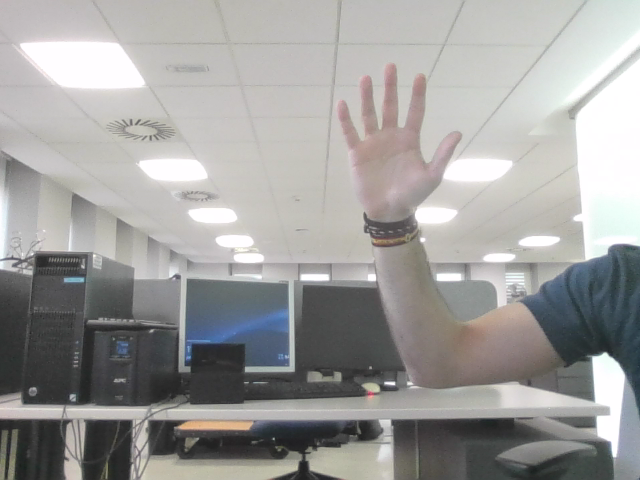Mano Abierta: (347, 75, 448, 191)
